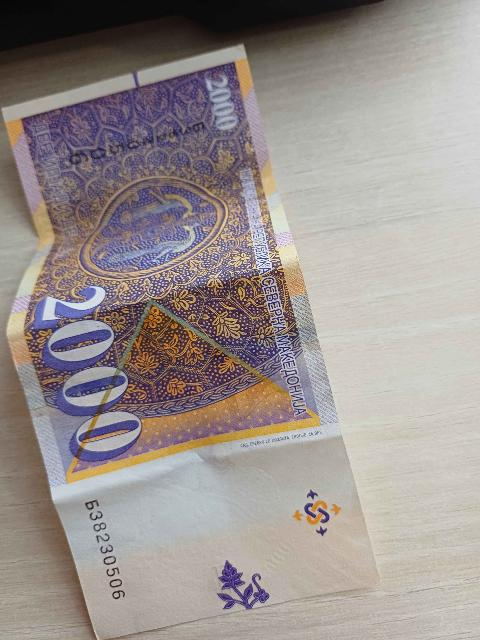2000_note: (4, 47, 376, 638)
